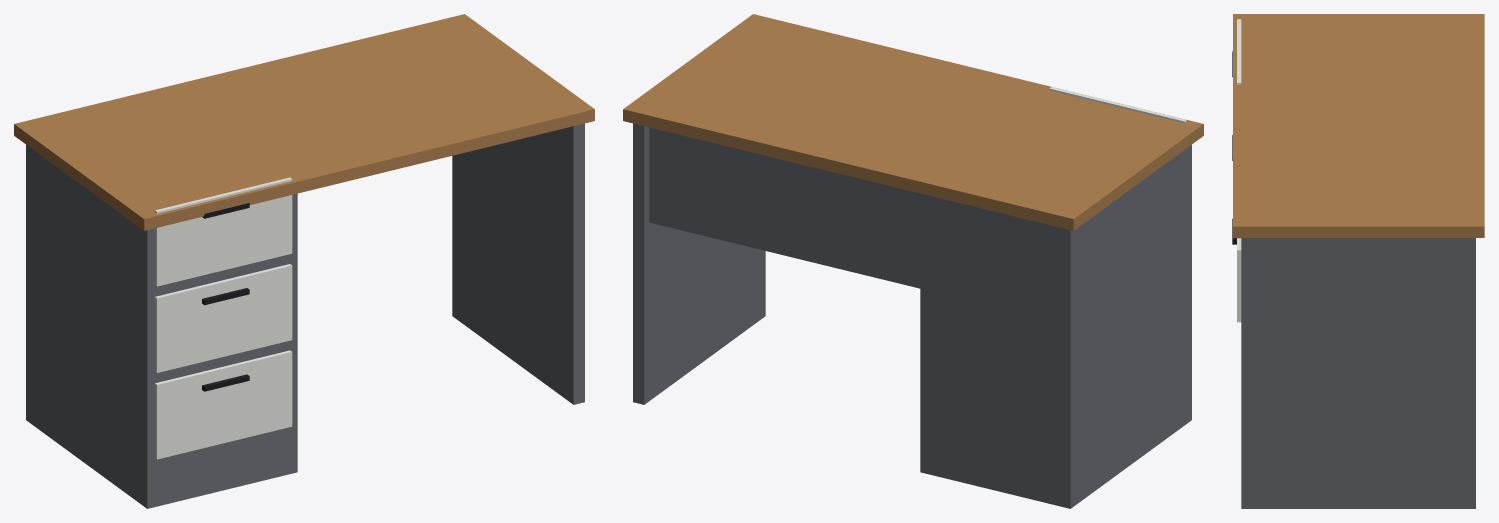
File: desk.glb
3 views of the same model, side by side, from view 1: azimuth 30°, elevation 25°; view 2: azimuth 150°, elevation 25°; view 3: azimuth 270°, elevation 25° (orthographic). The views are drawn at different scales.
Parts seen in each view (by area): view 1: Study desk; view 2: Study desk; view 3: Study desk.
Boxes of the visible parts, x1,y1,x2,y2 form: Study desk: (14,14,594,508); Study desk: (623,14,1203,508); Study desk: (1232,14,1484,508).
Bounding box in the file's own units: 1.2 × 0.755 × 0.601.
